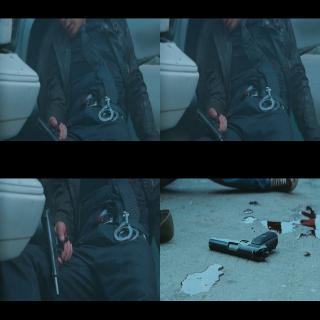gun: (205, 223, 282, 262), (41, 205, 71, 298), (194, 101, 226, 139), (35, 111, 65, 142)
